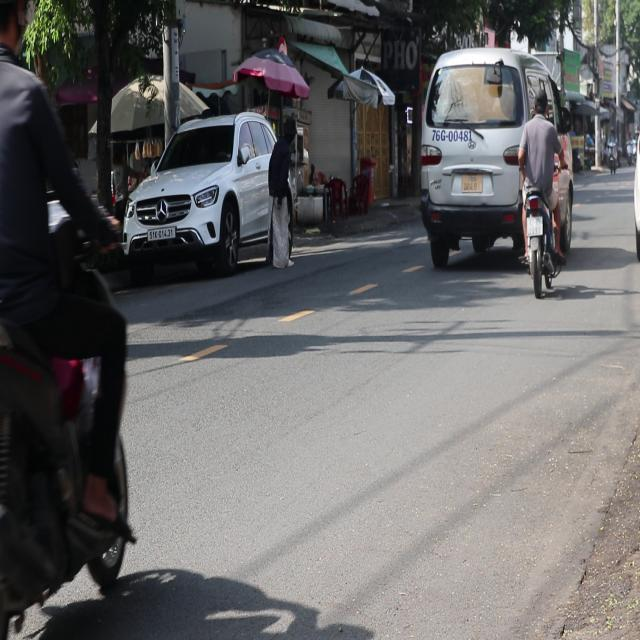licenseplate: (0, 0, 137, 639), (516, 84, 568, 295)
motorcyclist: (531, 85, 548, 117)
nohelmet: (526, 216, 542, 235)
